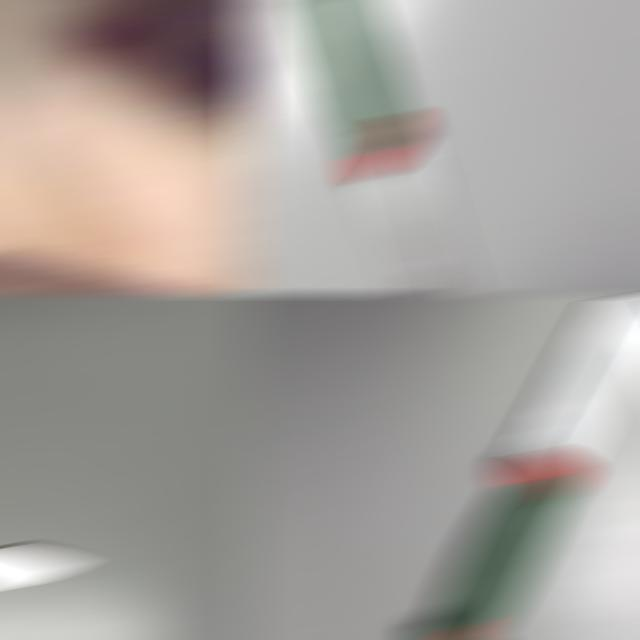Knife: (408, 296, 640, 638), (301, 2, 469, 292)
Knife_Handle: (0, 214, 260, 292)
